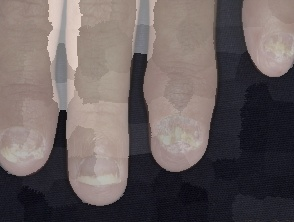Nail_psoriasis: (147, 105, 210, 162), (0, 114, 56, 172), (69, 145, 130, 195), (251, 22, 294, 68)
